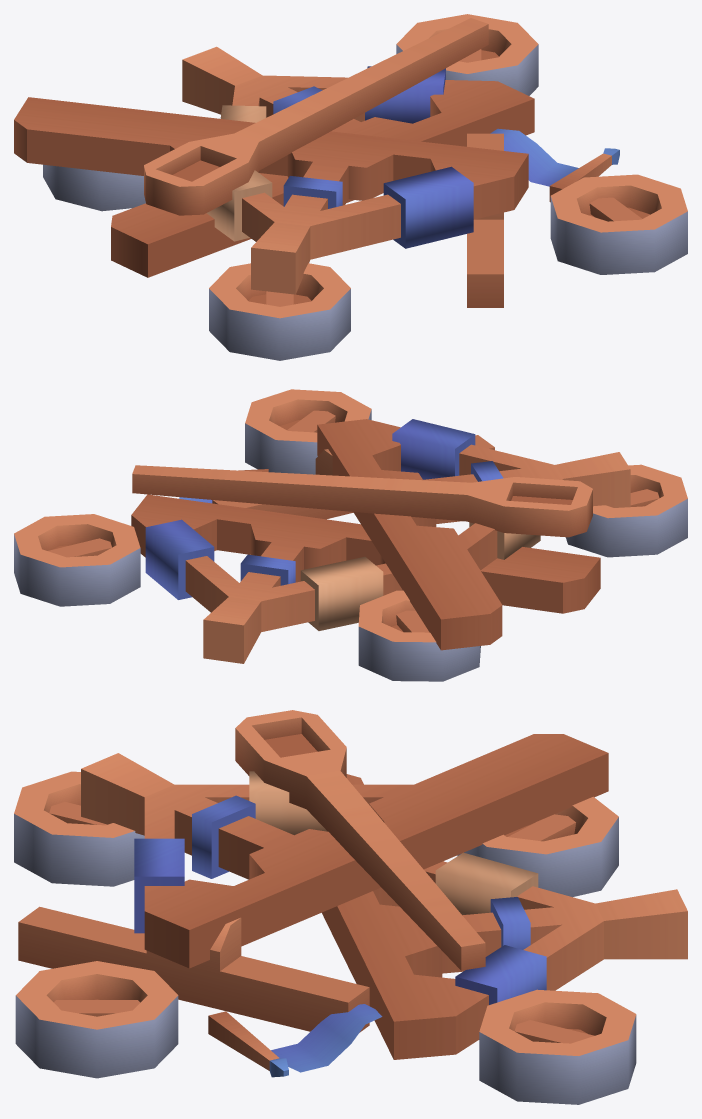
File: siege-catapult-demolished.obj
The picture shows the model from 3 angles, top to bottom: view 1: azimuth 30°, elevation 25°; view 2: azimuth 150°, elevation 25°; view 3: azimuth 270°, elevation 25°; orthographic projection. The views are drawn at different scales.
Visible parts, largest first — view 1: siege-catapult-demolished; view 2: siege-catapult-demolished; view 3: siege-catapult-demolished.
Boxes of the visible parts, x1,y1,x2,y2 form: siege-catapult-demolished: (14,14,687,360); siege-catapult-demolished: (14,389,687,681); siege-catapult-demolished: (14,710,687,1104).
Size of the model in its own units: 1.68 by 0.3213 by 1.67.
Materials: 1 (1 with a texture image).
